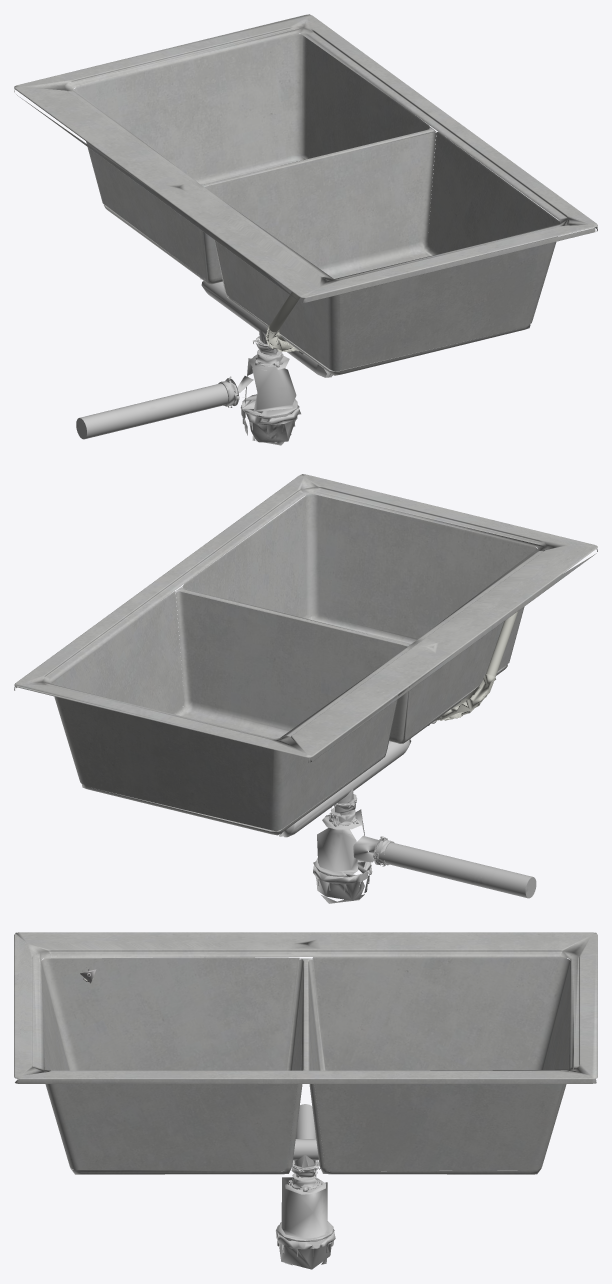
The model's file is fixture_sink_basin_b01.glb.
The picture shows the model from 3 angles, top to bottom: view 1: azimuth 30°, elevation 25°; view 2: azimuth 150°, elevation 25°; view 3: azimuth 270°, elevation 25°; orthographic projection.
Visible parts, largest first — view 1: sm_fixture_sink_basin_b01_01; view 2: sm_fixture_sink_basin_b01_01; view 3: sm_fixture_sink_basin_b01_01.
Boxes of the visible parts, <box> form: sm_fixture_sink_basin_b01_01: <box>14,14,597,445</box>; sm_fixture_sink_basin_b01_01: <box>14,474,597,903</box>; sm_fixture_sink_basin_b01_01: <box>14,932,597,1269</box>.
Size of the model in its own units: 0.5957 by 0.4164 by 0.8.
5 materials, 5 textured.
